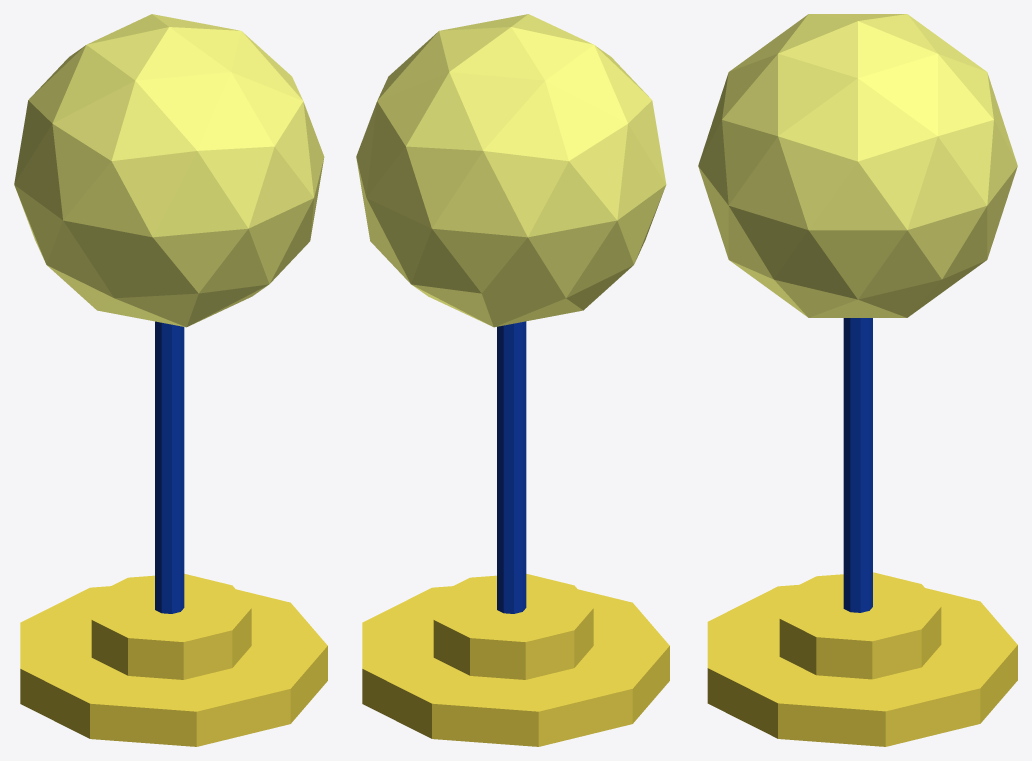
The model's file is Antena.fbx.
The picture shows the model from 3 angles, left to right: view 1: azimuth 30°, elevation 25°; view 2: azimuth 150°, elevation 25°; view 3: azimuth 270°, elevation 25°; orthographic projection.
Parts seen in each view (by area): view 1: Antena; view 2: Antena; view 3: Antena.
Boxes of the visible parts, box(x1,y1,x2,y2) form: Antena: box(14, 14, 327, 746); Antena: box(356, 14, 669, 746); Antena: box(698, 14, 1017, 746).
Bounding box in the file's own units: 197 × 455 × 200.
